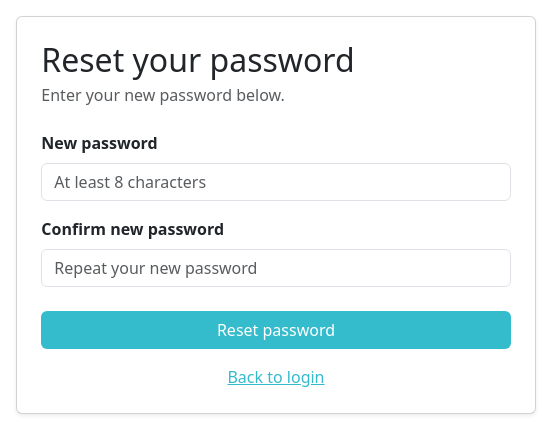
Test case: ResetPasswordPage › shows the success message after a successful reset
In the password field labelled "New password": {"x": 276, "y": 182} 41,163 -> 511,201, type "password123"
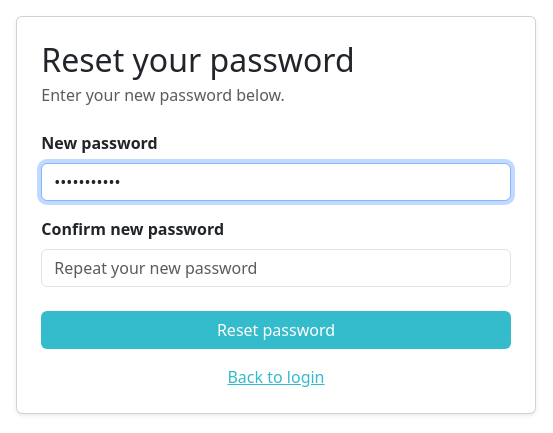
In the password field labelled "Confirm new password": {"x": 276, "y": 268} 41,249 -> 511,287, type "password123"
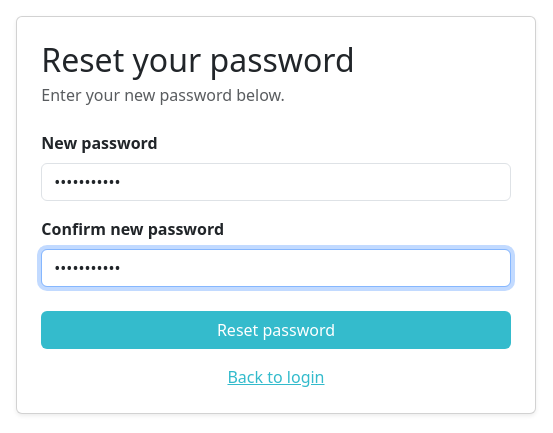
Click the button "Reset password": {"x": 276, "y": 330} 41,311 -> 511,349
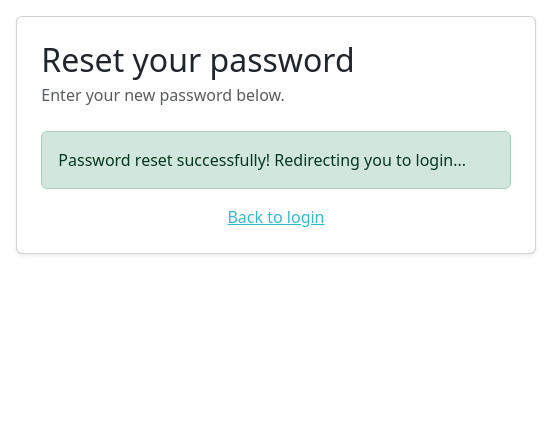
Expected: the text "Password reset successfully! Redirecting you to login..." is shown, 41,131 -> 511,189
Expected: the button "Reset password" is gone
